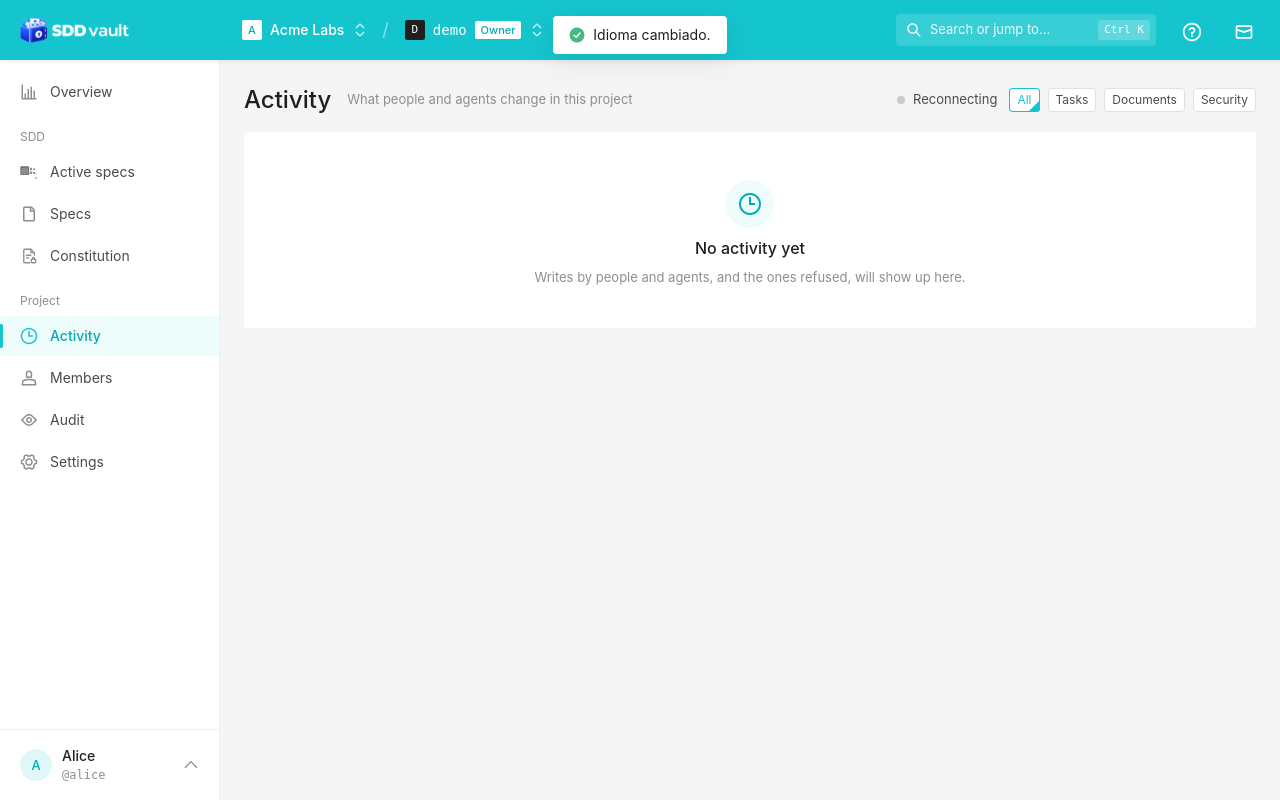
Test: ? lists the shortcuts, n opens the notifications and Escape closes them
Expected: the heading "Activity" is shown, x1=244 y1=84 x2=331 y2=116
Type keys "?"
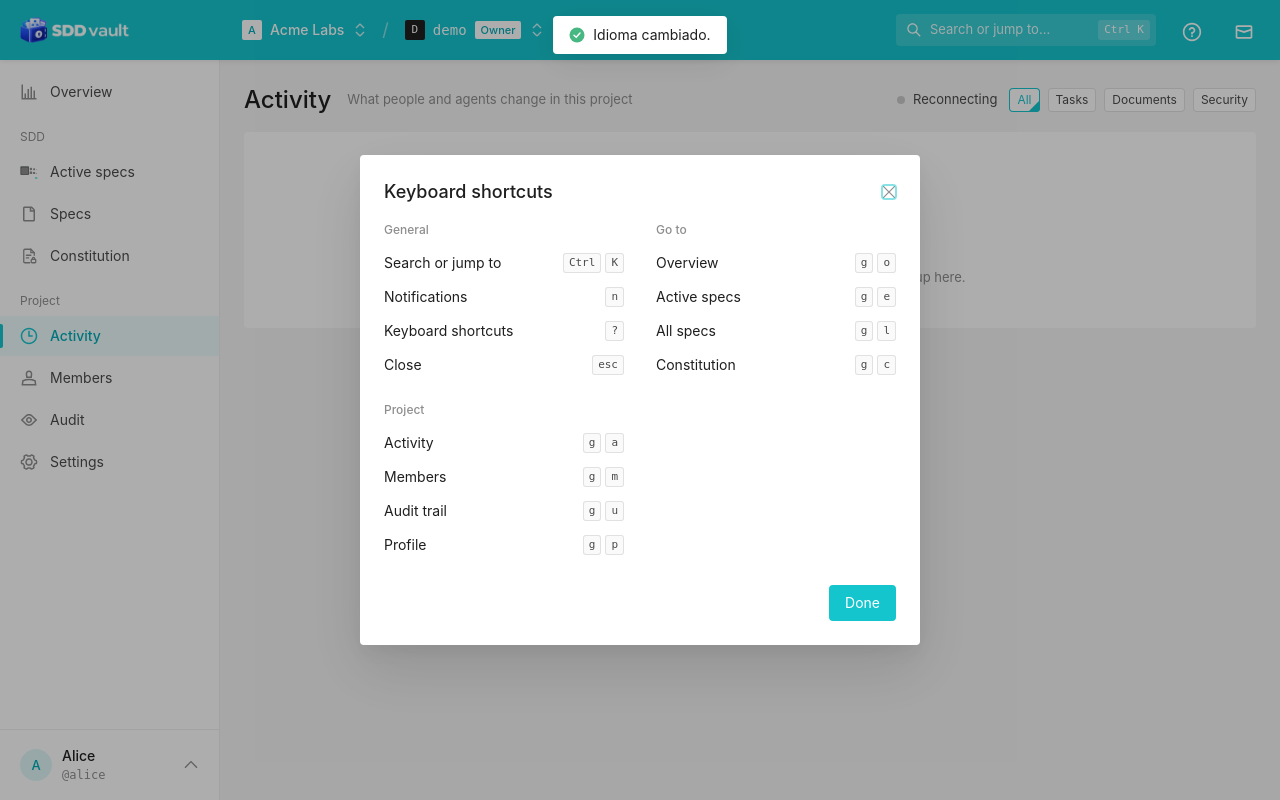
Now the dialog "Keyboard shortcuts" is shown, box x1=360 y1=155 x2=920 y2=645
Press Escape
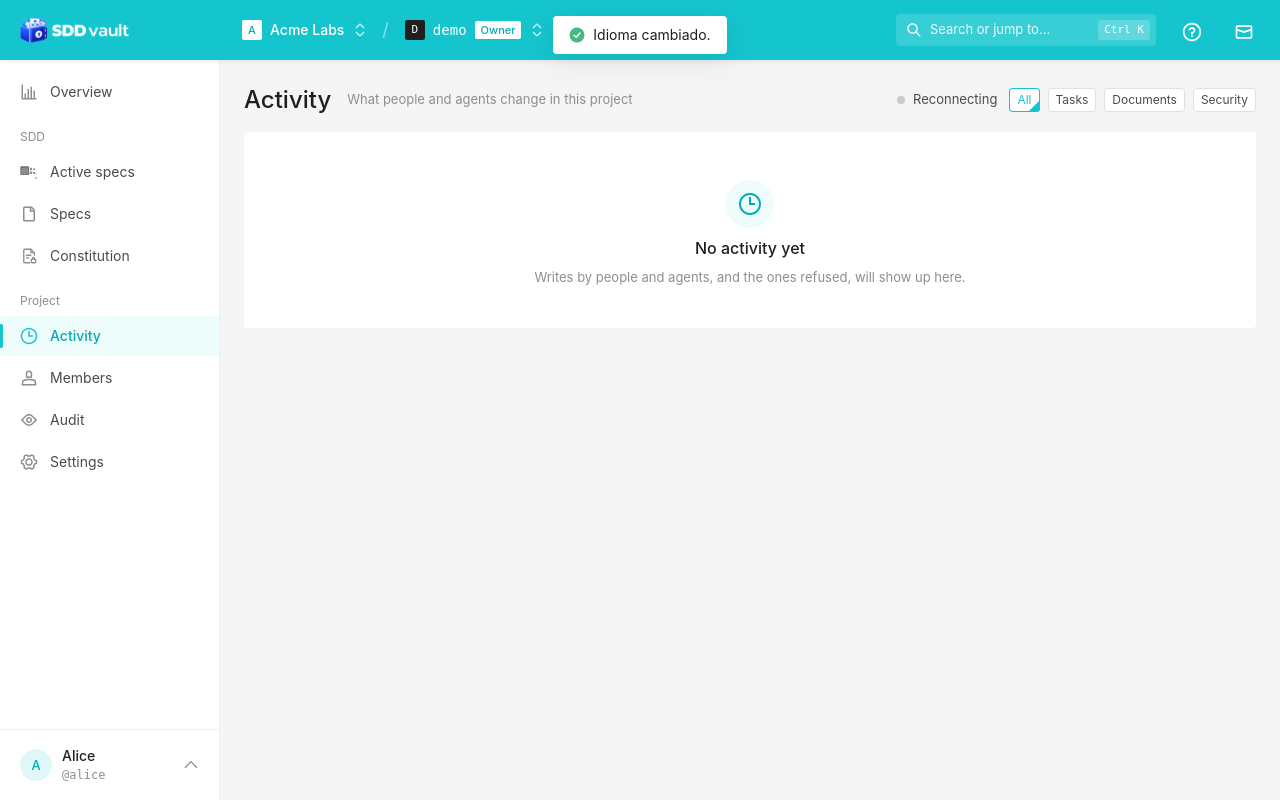
Now the dialog is gone
Type keys "n"
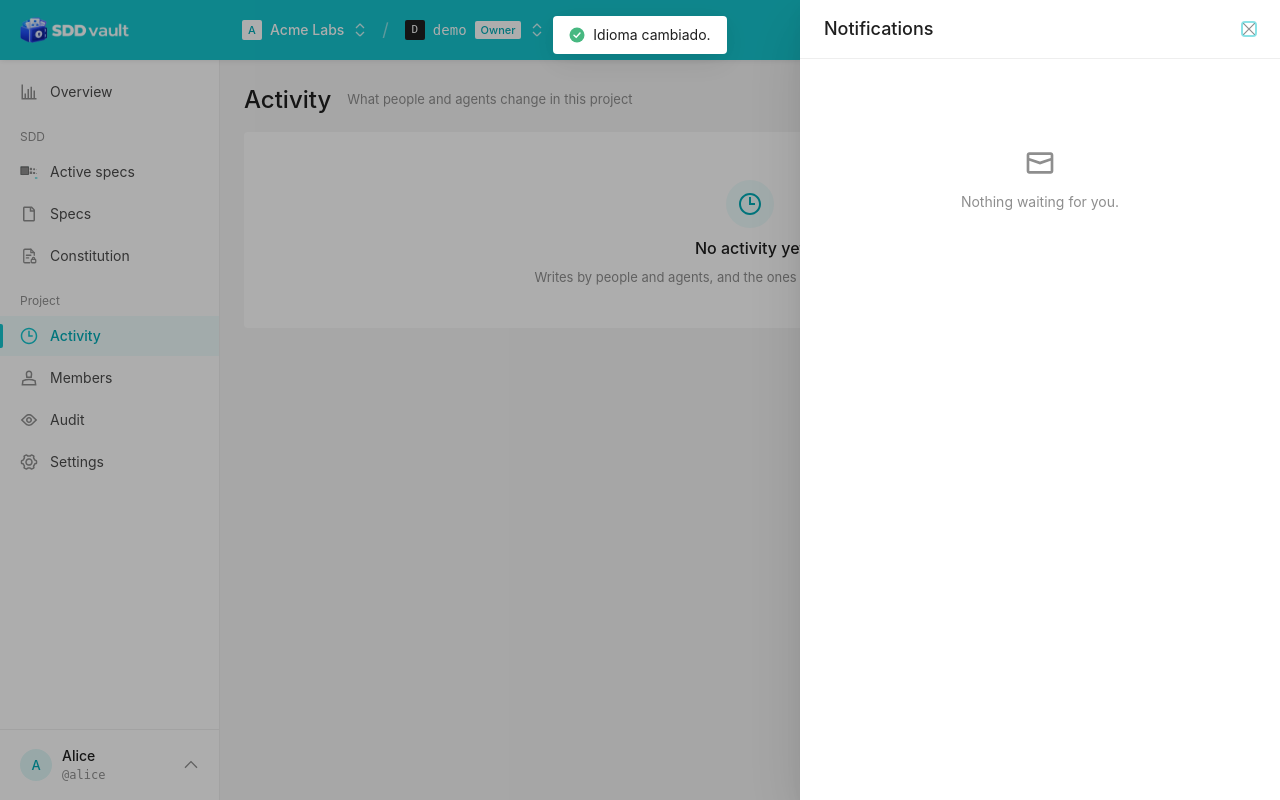
Now the dialog "Notifications" is shown, box x1=800 y1=0 x2=1279 y2=799
Press Escape
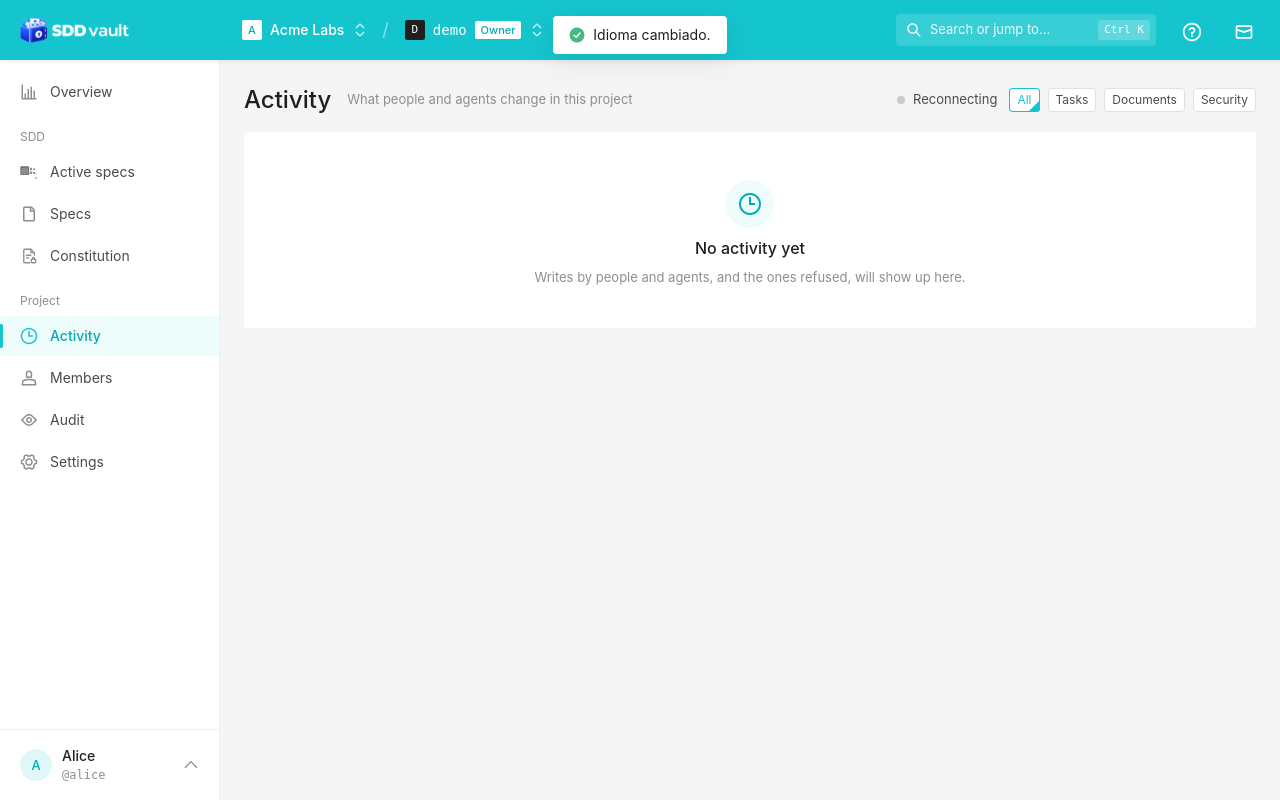
Now the dialog is gone
Click the button named "Keyboard shortcuts" at (1190, 30), box x1=1172 y1=12 x2=1208 y2=48
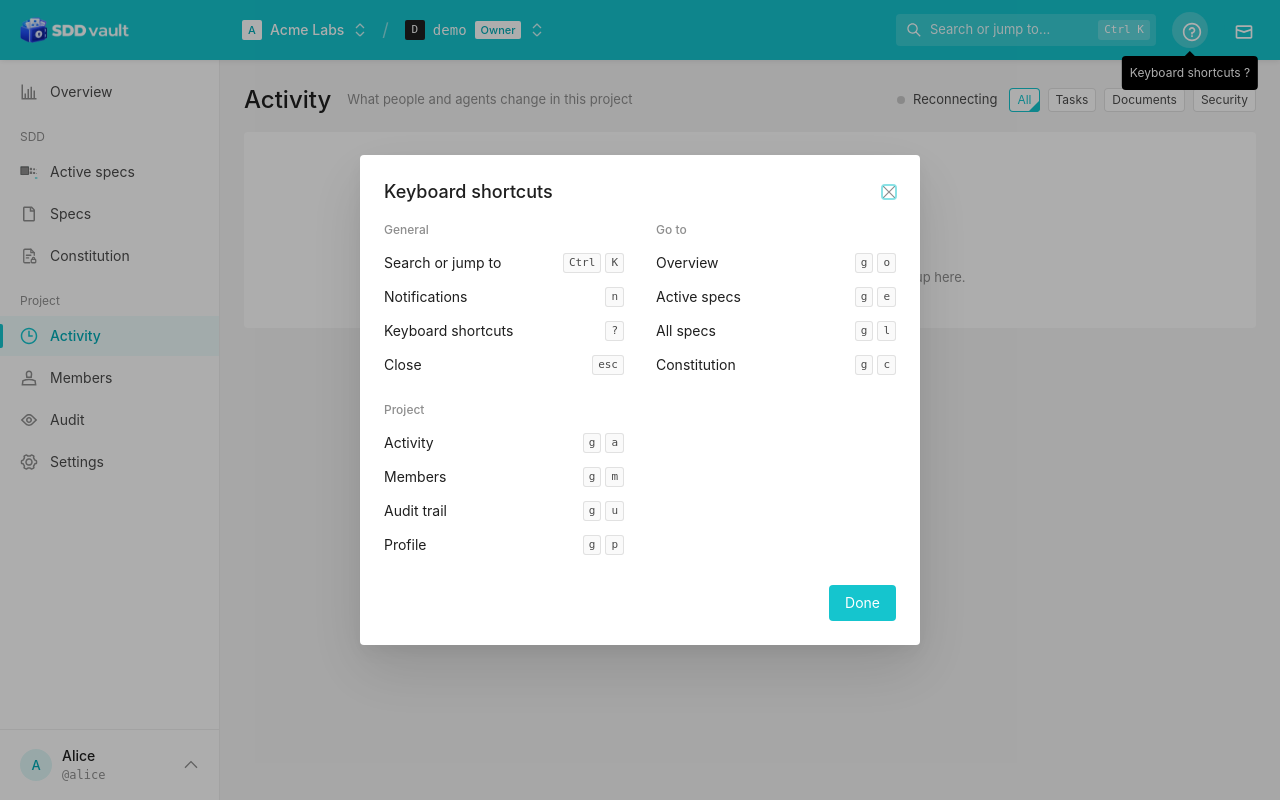
Now the dialog "Keyboard shortcuts" is shown, box x1=360 y1=155 x2=920 y2=645
